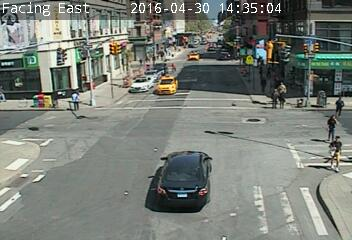neg: (8, 19, 27, 44), (143, 115, 162, 139), (254, 126, 271, 149), (269, 158, 286, 180), (68, 168, 84, 190), (110, 88, 126, 109), (331, 197, 347, 218), (225, 124, 240, 144), (23, 59, 37, 77), (281, 134, 295, 152), (130, 161, 144, 179), (123, 123, 136, 141), (245, 108, 258, 125), (313, 35, 326, 52), (285, 210, 298, 227), (255, 189, 267, 205), (249, 17, 261, 32), (193, 119, 205, 134), (150, 78, 161, 94), (200, 152, 211, 167), (225, 155, 236, 170), (90, 33, 101, 47), (60, 120, 71, 134), (47, 39, 57, 54), (96, 123, 106, 137), (206, 70, 216, 83), (39, 97, 49, 110), (169, 153, 179, 166), (223, 78, 233, 91), (200, 29, 210, 42), (294, 110, 304, 123), (85, 10, 94, 23), (225, 39, 233, 50), (168, 4, 176, 15), (131, 6, 139, 17), (106, 40, 113, 51), (208, 5, 215, 15), (213, 44, 220, 54), (191, 80, 198, 90), (305, 195, 312, 205), (201, 102, 207, 110), (200, 61, 204, 66)
pos: (324, 135, 349, 168), (319, 113, 339, 139), (66, 88, 83, 111), (333, 95, 350, 117), (266, 85, 280, 105), (255, 72, 269, 91), (278, 79, 290, 95), (278, 92, 290, 107), (169, 59, 179, 73), (137, 56, 145, 66)
